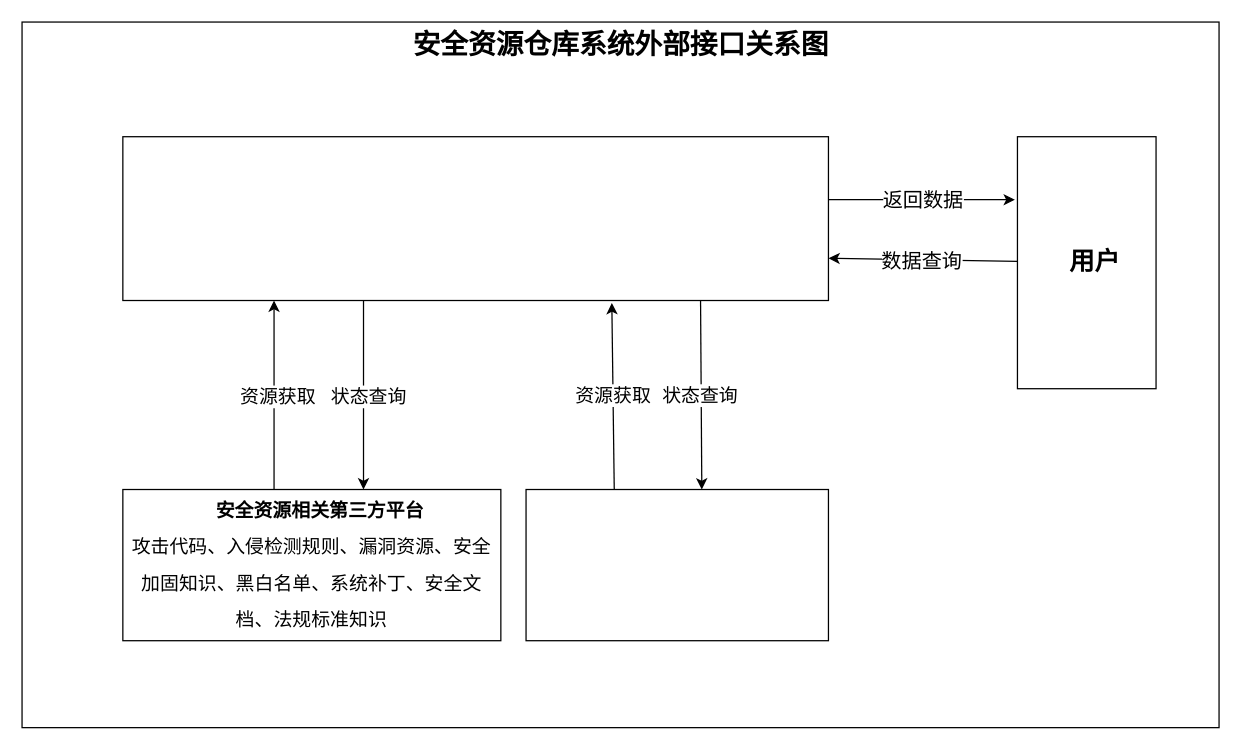
The diagram is 1241 pixels wide and 750 high, and some of its shapes have lost their labels. Each missing label, with the centre of its shape:
"安全资源仓库系统" goes at (x=475, y=218).
"申威系列相关第三方平台 申威平台系统、应用软件、漏洞补丁、安全工具" goes at (x=676, y=564).
